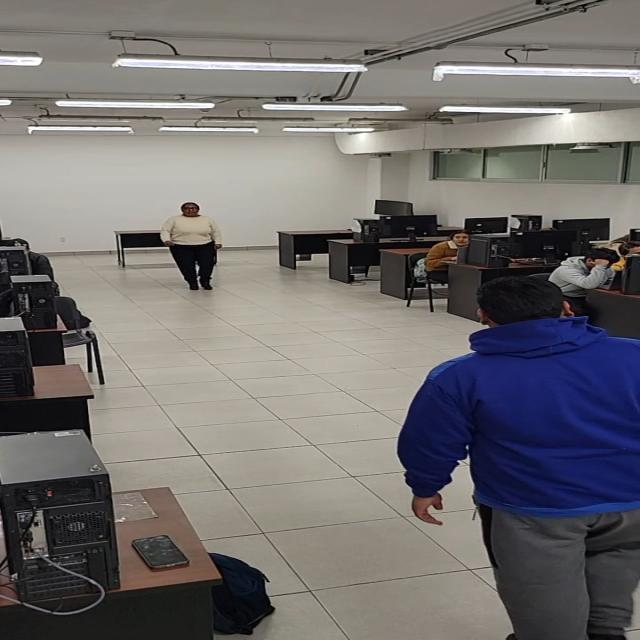Persona: (396, 273, 639, 640), (160, 202, 222, 290)
